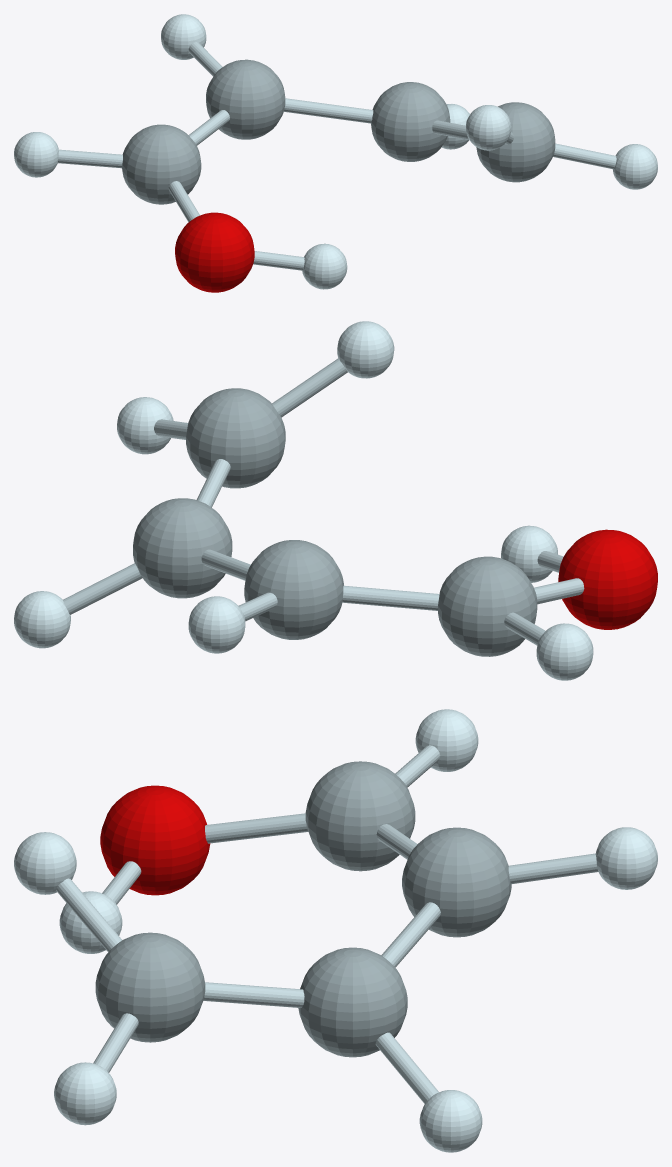
Rendered from irc_091.glb.
3 views of the same model, one above another, from view 1: azimuth 30°, elevation 25°; view 2: azimuth 150°, elevation 25°; view 3: azimuth 270°, elevation 25° (orthographic). The views are drawn at different scales.
Parts seen in each view (by area): view 1: Renderer Node; view 2: Renderer Node; view 3: Renderer Node.
Boxes of the visible parts, x1,y1,x2,y2 form: Renderer Node: [14, 14, 657, 292]; Renderer Node: [14, 321, 657, 680]; Renderer Node: [14, 709, 657, 1152].
Size of the model in its own units: 5.1 by 1.69 by 4.1.
